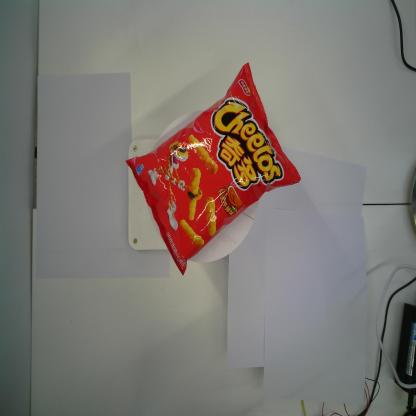Puffed Food: (125, 62, 300, 279)
